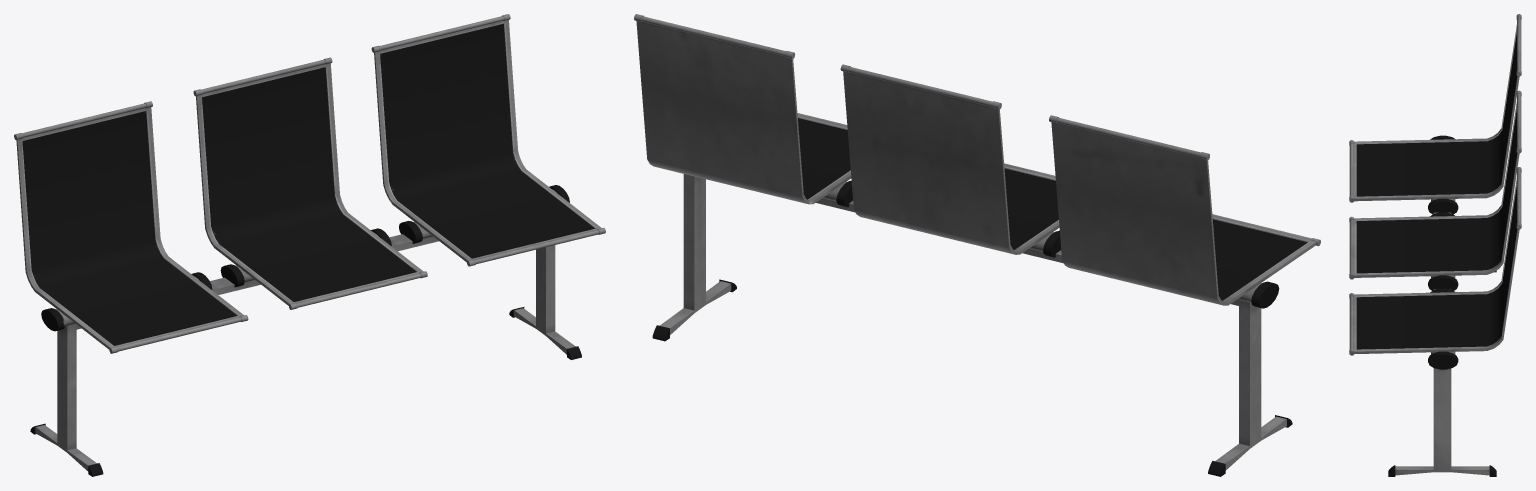
File: bench.gltf
3 renders of one model, left to right at view 1: azimuth 30°, elevation 25°; view 2: azimuth 150°, elevation 25°; view 3: azimuth 270°, elevation 25°, orthographic. The views are drawn at different scales.
Visible parts, largest first — view 1: node0; view 2: node0; view 3: node0.
Part boxes in pixels (x1,y1,x2,y2): node0: [14, 14, 605, 476]; node0: [634, 14, 1320, 476]; node0: [1349, 14, 1521, 476].
Size of the model in its own units: 2.36 by 1.27 by 0.7846.
1 material, 1 textured.
